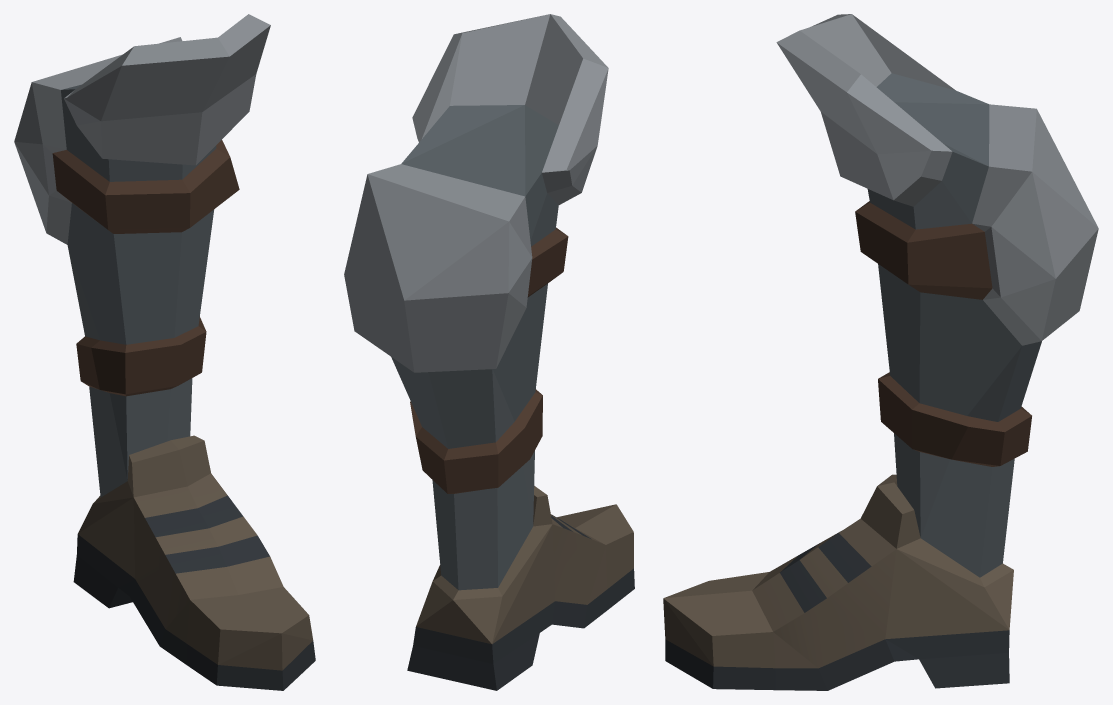
File: Chr_LegLeft_Female_10_Static.fbx
The picture shows the model from 3 angles, left to right: view 1: azimuth 30°, elevation 25°; view 2: azimuth 150°, elevation 25°; view 3: azimuth 270°, elevation 25°; orthographic projection. The views are drawn at different scales.
Visible parts, largest first — view 1: Chr_LegLeft_Female_10_Static; view 2: Chr_LegLeft_Female_10_Static; view 3: Chr_LegLeft_Female_10_Static.
Part boxes in pixels (left/top/right/bottom): Chr_LegLeft_Female_10_Static: left=14, top=14, right=315, bottom=690; Chr_LegLeft_Female_10_Static: left=344, top=14, right=634, bottom=690; Chr_LegLeft_Female_10_Static: left=663, top=14, right=1098, bottom=690.
Bounding box in the file's own units: 0.1364 × 0.4546 × 0.2848.
